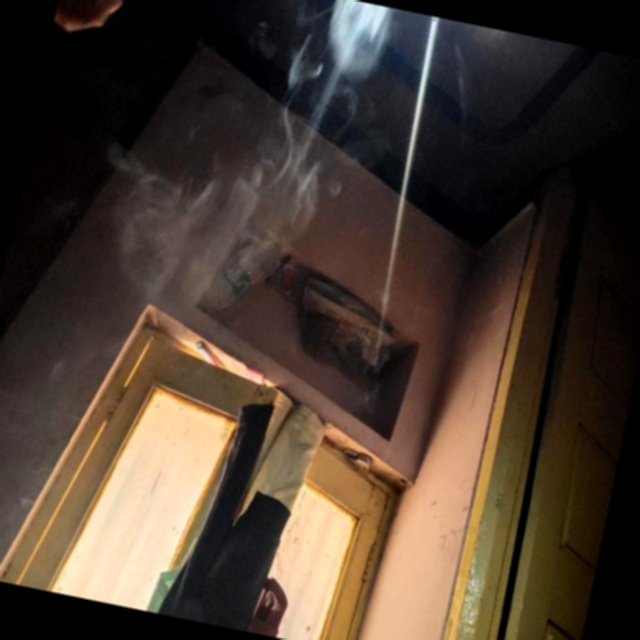smoke: (106, 0, 395, 348)
